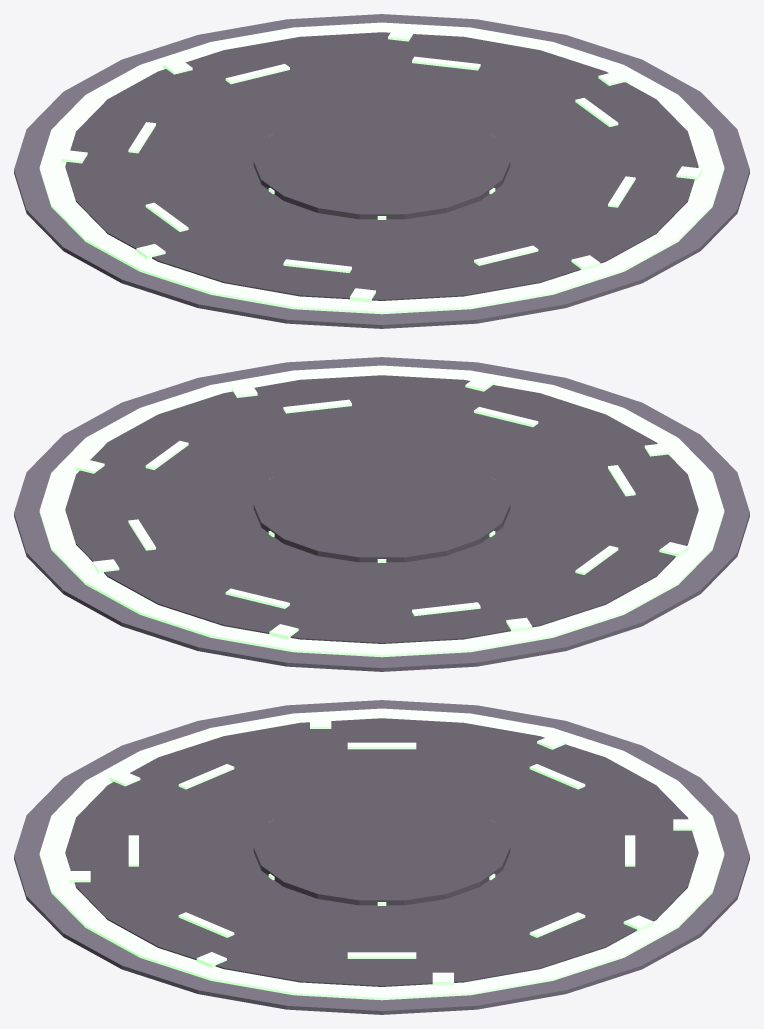
Rendered from heal_circle.glb.
3 renders of one model, top to bottom at view 1: azimuth 30°, elevation 25°; view 2: azimuth 150°, elevation 25°; view 3: azimuth 270°, elevation 25°, orthographic.
Parts seen in each view (by area): view 1: heal_circle; view 2: heal_circle; view 3: heal_circle.
Boxes of the visible parts, x1,y1,x2,y2 form: heal_circle: (14,14,749,328); heal_circle: (14,357,749,671); heal_circle: (14,700,749,1014).
Size of the model in its own units: 8.6 by 0.16 by 8.6.
